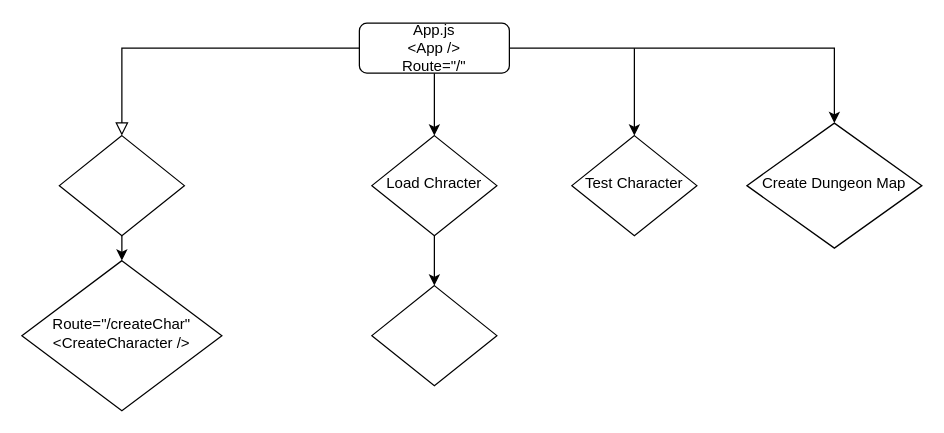
Image size: 944x433. Some labels were removed from this diagram. Each missing label, with the centre of its shape:
"Create New Character" belongs at point (121, 185).
"Javascript only" belongs at point (434, 335).
